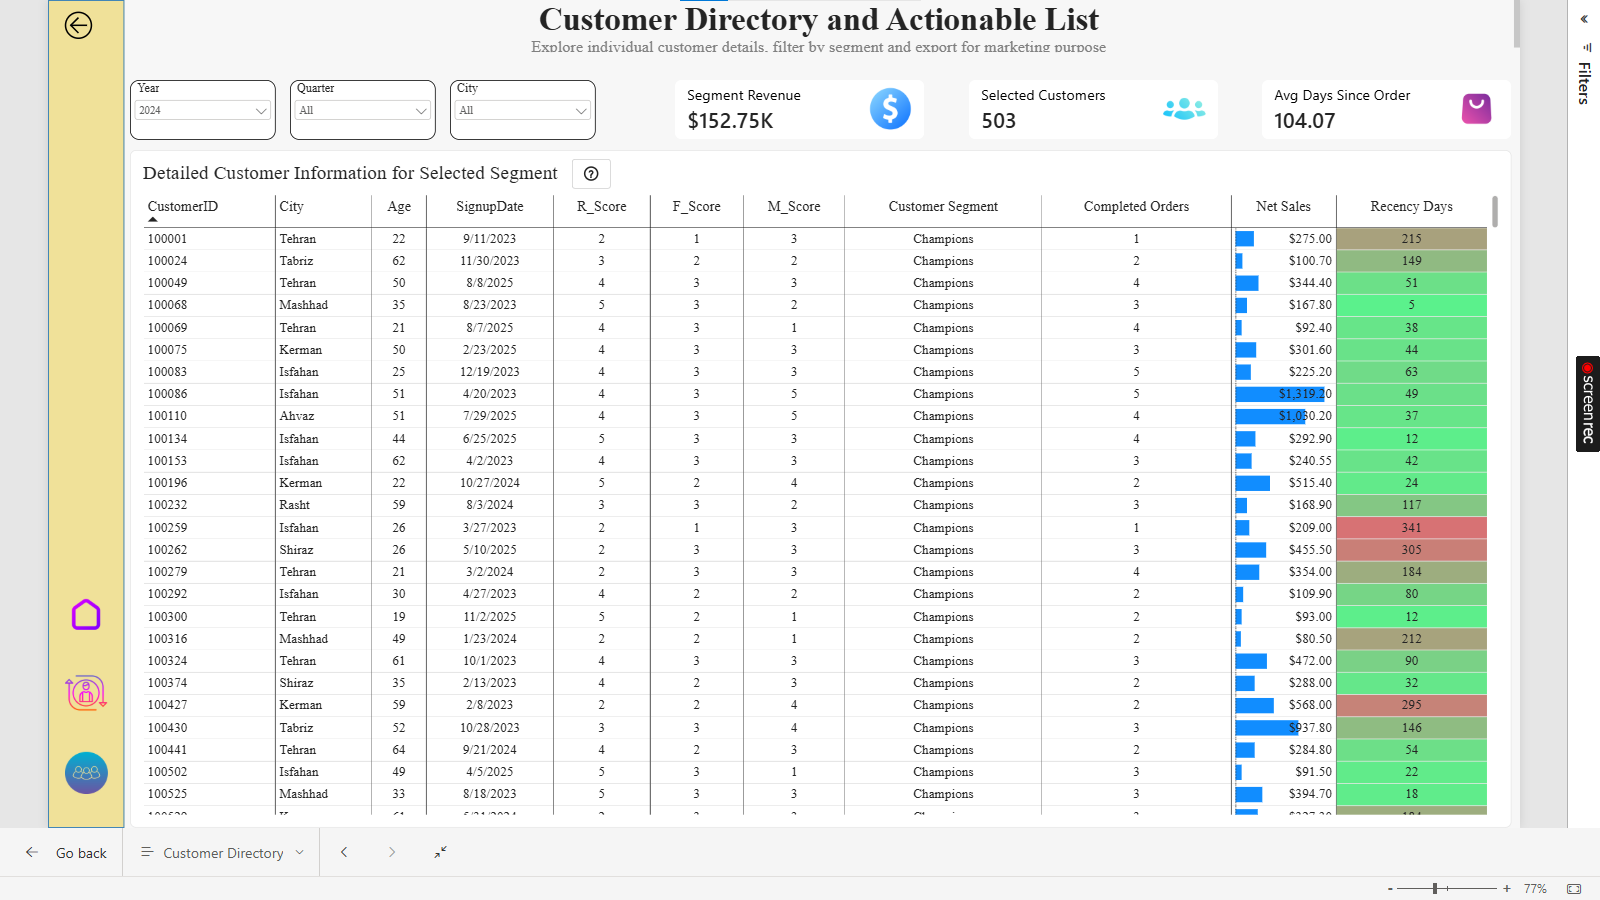

The page's visual inventory and layout, read from the dashboard file:
{"tool":"powerbi","page":{"name":"Customer Directory","canvas":[1920,1080],"ordinal":2},"visuals":[{"type":"shape","box":[0,0,99.6,1080],"z":0,"group":"g1"},{"type":"group","id":"g1","title":"Navigation","box":[0,0,99.6,1080],"z":0},{"type":"cardVisual","fields":{"Data":["Measure Table.Net Sales"]},"box":[818.4,104.6,325,77.6],"z":1000},{"type":"image","box":[21.9,767.8,55,65],"z":1000,"group":"g1"},{"type":"cardVisual","fields":{"Data":["Measure Table.Distinct Customers"]},"box":[1200.7,104.6,325,77],"z":2000},{"type":"image","box":[21.9,871.2,55,65.8],"z":2000,"group":"g1"},{"type":"cardVisual","fields":{"Data":["Measure Table.Avg Recency Days"]},"box":[1582.9,104.6,325,77.6],"z":3000},{"type":"image","box":[21.9,975.4,55.7,65],"z":3000,"group":"g1"},{"type":"slicer","fields":{"Values":["dim_date.Date.Variation.Date Hierarchy.Year"]},"box":[106.3,104.6,190,77.6],"z":4000},{"type":"slicer","fields":{"Values":["dim_date.Date.Variation.Date Hierarchy.Quarter"]},"box":[315.6,104.6,190,77.6],"z":5000},{"type":"slicer","fields":{"Values":["dim_customers.City"]},"box":[524.8,104.6,190,77.6],"z":6000},{"type":"textbox","box":[99.2,0,1820.8,67.5],"z":7000},{"type":"tableEx","title":"Detailed Customer Information for Selected Segment","fields":{"Values":["dim_customers.CustomerID","dim_customers.City","dim_customers.Age","dim_customers.SignupDate","Measure Table.R_Score","Measure Table.F_Score","Measure Table.M_Score","dim_customers.Customer Segment","Measure Table.Completed Orders","Measure Table.Net Sales","Measure Table.Recency Days"]},"box":[106.3,195.8,1802.2,884.2],"z":8000},{"type":"actionButton","box":[683.4,207.6,50.6,38.8],"z":9000},{"type":"actionButton","box":[11.8,0,55,65.8],"z":10000}]}

Visuals, with their boxes on the page's 1920x1080 design canvas (x1, y1, x2, y2). These are canvas units, not pixel positions in the 1600x900 screenshot, which may show the page scaled, cropped or inside an application window:
shape: rect(0, 0, 100, 1080)
"Navigation" group: rect(0, 0, 100, 1080)
cardVisual - Measure Table.Net Sales: rect(818, 105, 1143, 182)
image: rect(22, 768, 77, 833)
cardVisual - Measure Table.Distinct Customers: rect(1201, 105, 1526, 182)
image: rect(22, 871, 77, 937)
cardVisual - Measure Table.Avg Recency Days: rect(1583, 105, 1908, 182)
image: rect(22, 975, 78, 1040)
slicer - dim_date.Date.Variation.Date Hierarchy.Year: rect(106, 105, 296, 182)
slicer - dim_date.Date.Variation.Date Hierarchy.Quarter: rect(316, 105, 506, 182)
slicer - dim_customers.City: rect(525, 105, 715, 182)
textbox: rect(99, 0, 1920, 68)
"Detailed Customer Information for Selected Segment" tableEx: rect(106, 196, 1908, 1080)
actionButton: rect(683, 208, 734, 246)
actionButton: rect(12, 0, 67, 66)
